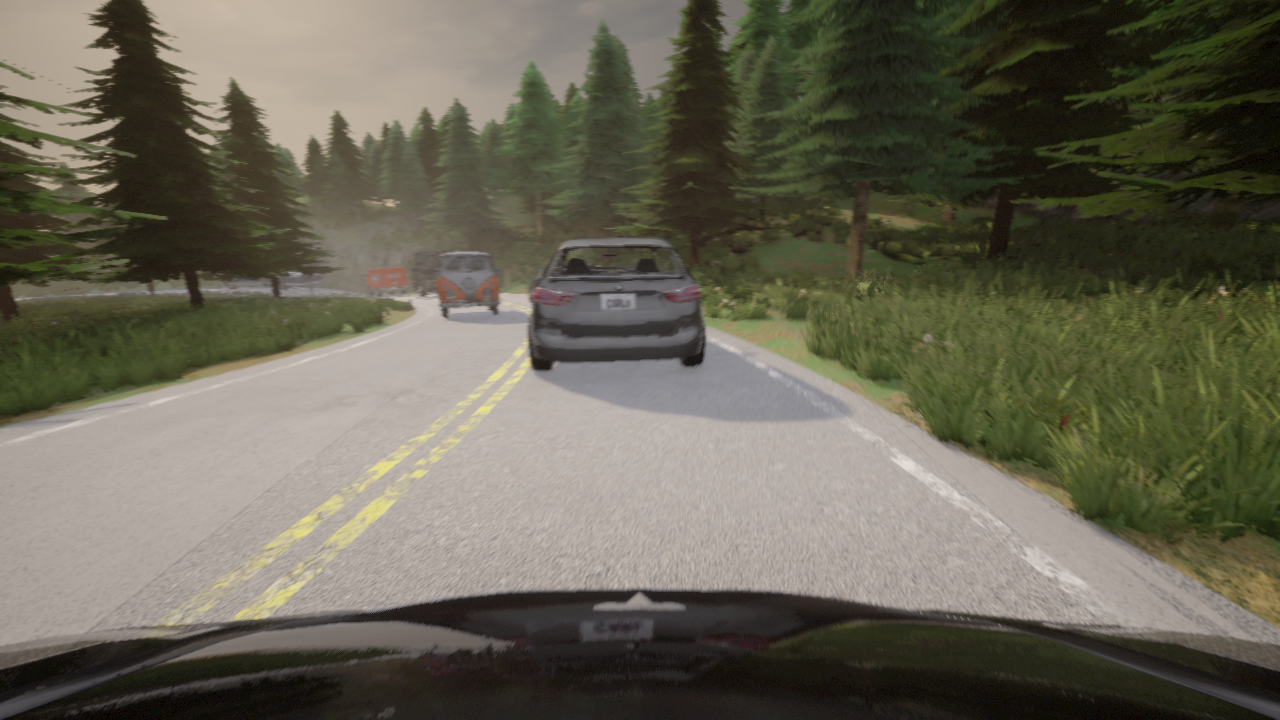cyclist: (0, 588, 1279, 719), (528, 237, 705, 370), (433, 251, 500, 318), (219, 255, 323, 289), (407, 247, 455, 296), (362, 267, 410, 296), (529, 267, 546, 301), (538, 278, 540, 281)
